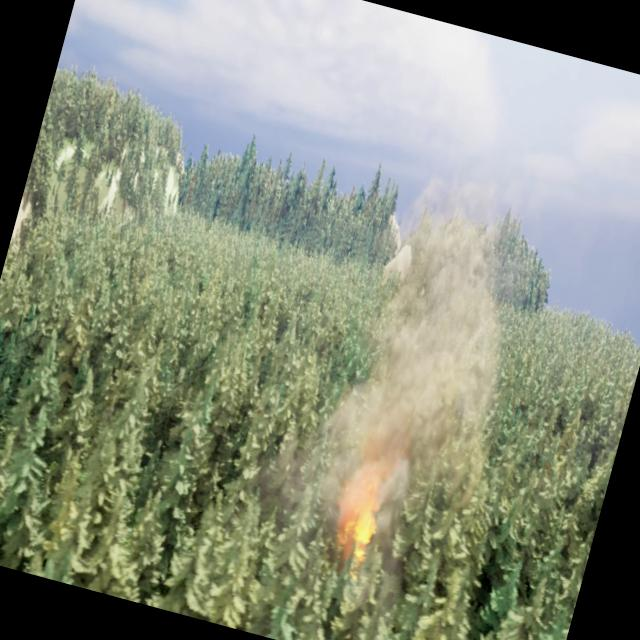fire: (328, 477, 388, 565)
smoke: (257, 150, 553, 596)
